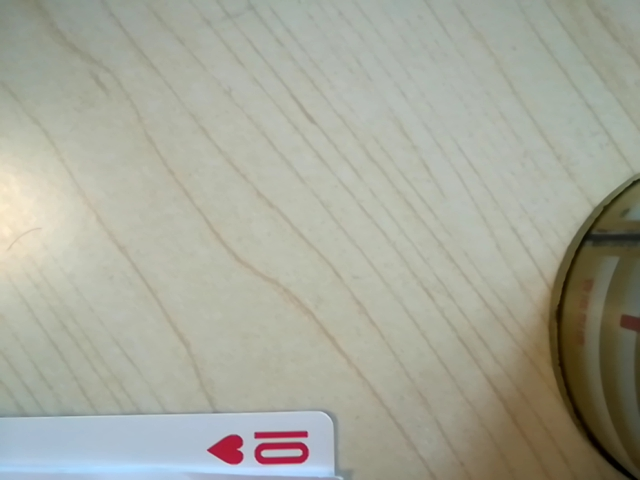hx 10: (203, 423, 324, 475)
